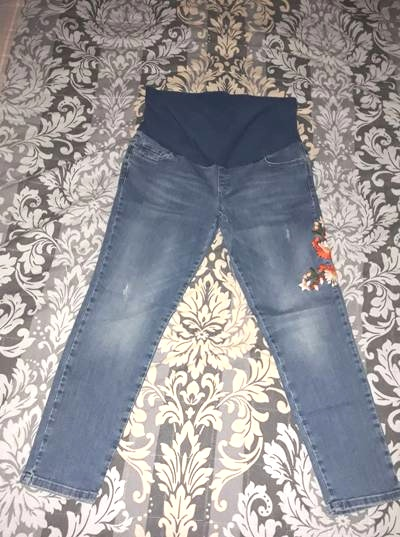Pants: (37, 66, 387, 514)
